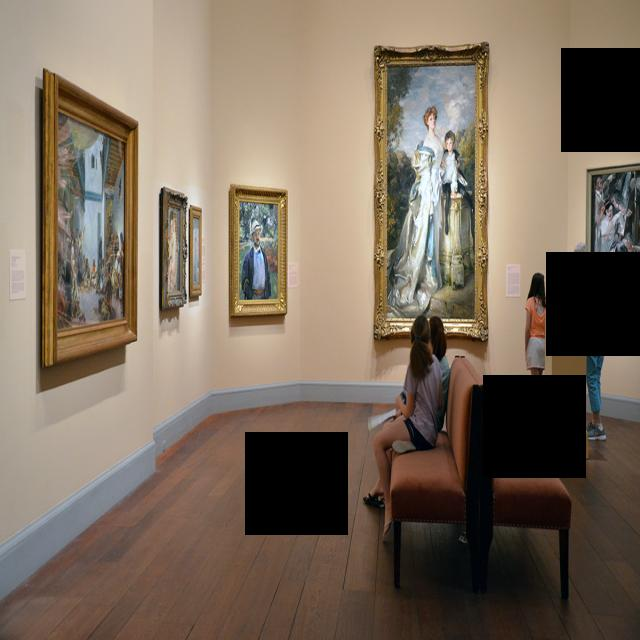Tablo: (385, 62, 477, 322), (56, 108, 126, 333), (238, 200, 280, 301), (167, 204, 181, 293), (193, 216, 200, 286)
